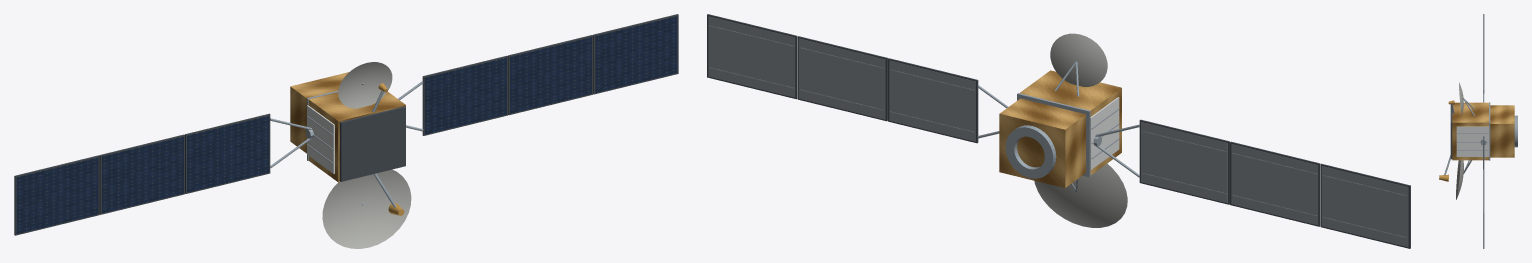
File: as4000-inmarsat-3.glb
The picture shows the model from 3 angles, left to right: view 1: azimuth 30°, elevation 25°; view 2: azimuth 150°, elevation 25°; view 3: azimuth 270°, elevation 25°; orthographic projection. The views are drawn at different scales.
Parts seen in each view (by area): view 1: Solar cell panel (×6), Communications reflector (×2), Earth-facing deck, Solar panel frame (×6), Payload module, Service module, Radiator face; view 2: Rear array substrate (×6), Communications reflector (×2), Service module, Solar panel frame (×6), Payload module, Launch adapter ring, Radiator face, Module interface; view 3: Service module, Payload module, Radiator face, Communications reflector (×2), Solar panel frame (×2), Earth-facing deck, Launch adapter ring, Module interface, Feed horn.
Boxes of the visible parts, x1=… form: Solar cell panel (×6): x1=16, y1=16, x2=677, y2=233; Communications reflector (×2): x1=322, y1=62, x2=411, y2=248; Earth-facing deck: x1=339, y1=106, x2=405, y2=181; Solar panel frame (×6): x1=14, y1=14, x2=678, y2=235; Payload module: x1=308, y1=92, x2=405, y2=182; Service module: x1=290, y1=72, x2=348, y2=153; Radiator face: x1=307, y1=105, x2=334, y2=173; Rear array substrate (×6): x1=708, y1=16, x2=1408, y2=247; Communications reflector (×2): x1=1034, y1=33, x2=1127, y2=227; Service module: x1=999, y1=98, x2=1085, y2=187; Solar panel frame (×6): x1=707, y1=14, x2=1410, y2=248; Payload module: x1=1019, y1=70, x2=1121, y2=175; Launch adapter ring: x1=1005, y1=125, x2=1056, y2=178; Radiator face: x1=1090, y1=97, x2=1119, y2=169; Module interface: x1=1017, y1=93, x2=1090, y2=177; Service module: x1=1490, y1=105, x2=1514, y2=157; Payload module: x1=1452, y1=102, x2=1488, y2=160; Radiator face: x1=1456, y1=126, x2=1489, y2=156; Communications reflector (×2): x1=1456, y1=82, x2=1463, y2=199; Solar panel frame (×2): x1=1483, y1=65, x2=1484, y2=248; Earth-facing deck: x1=1450, y1=104, x2=1452, y2=159; Launch adapter ring: x1=1514, y1=115, x2=1517, y2=147; Module interface: x1=1489, y1=102, x2=1490, y2=160; Feed horn: x1=1439, y1=174, x2=1448, y2=181.
Size of the model in its own units: 20.67 by 5.45 by 3.47.
8 materials, 2 textured.
